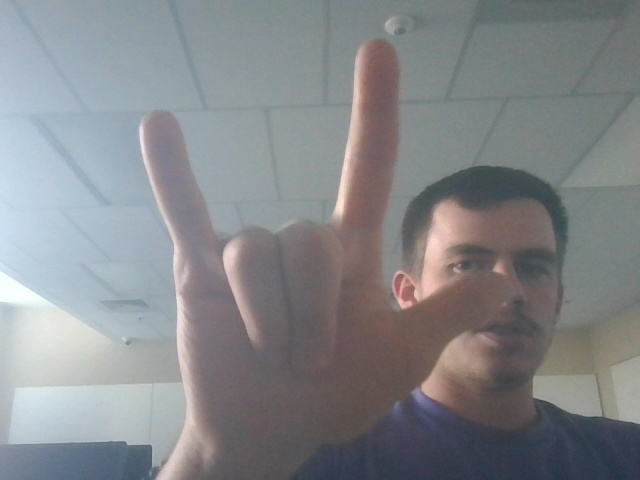iloveyou: (121, 31, 501, 453)
